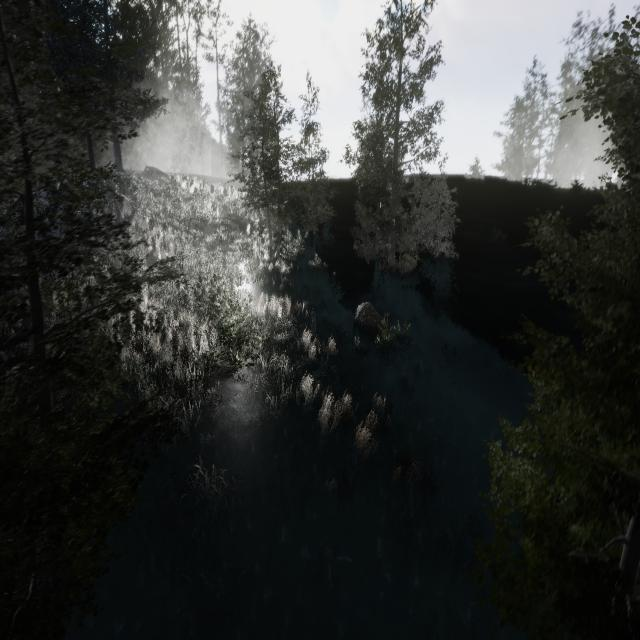Human: (301, 291, 315, 341)
